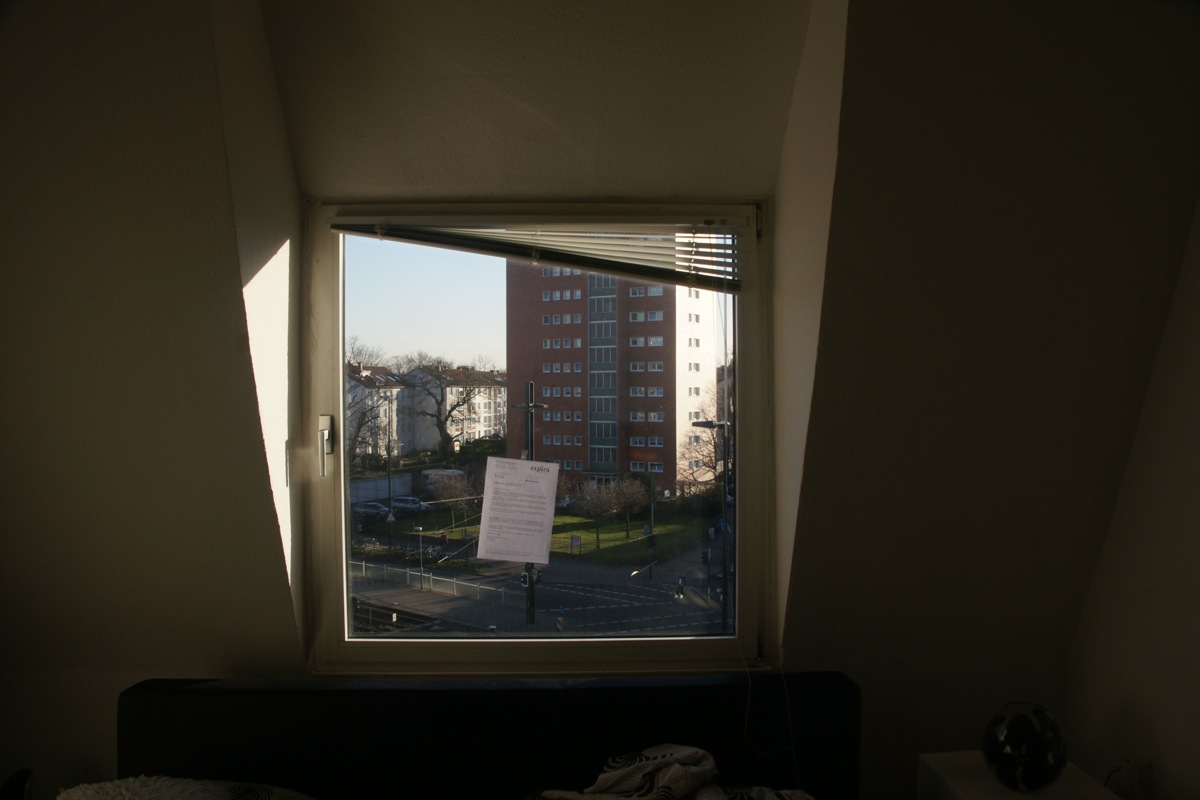windows: (322, 208, 766, 662)
